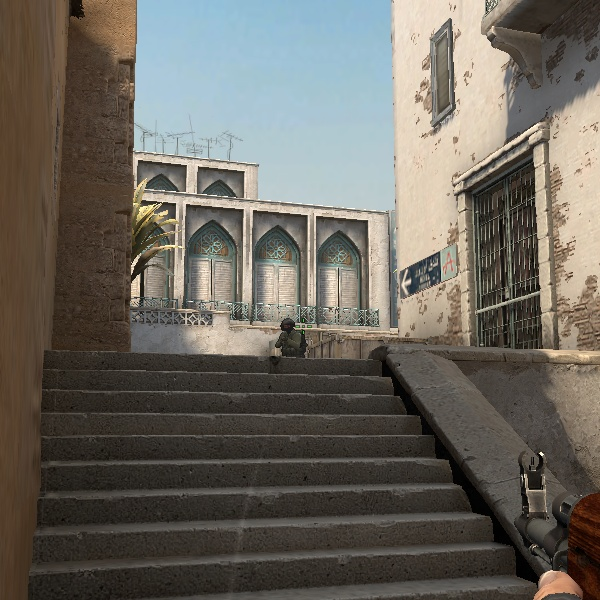ct_body: (273, 317, 310, 357)
ct_head: (280, 317, 296, 333)
